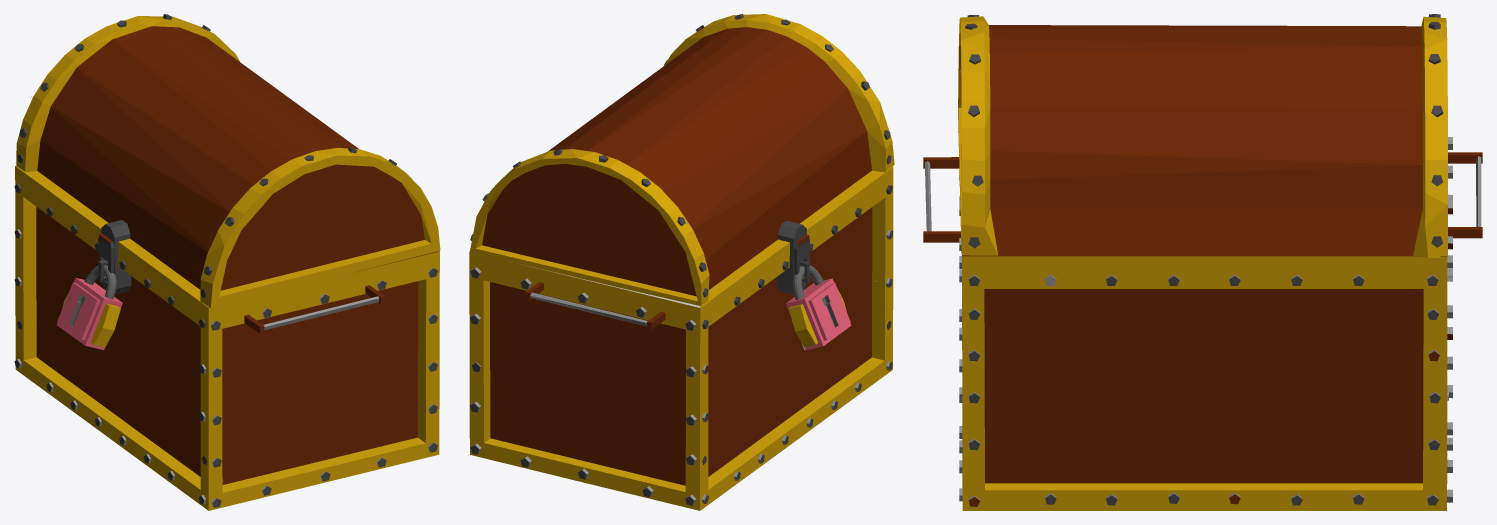
File: PinkChestAndLock.fbx
3 views of the same model, side by side, from view 1: azimuth 30°, elevation 25°; view 2: azimuth 150°, elevation 25°; view 3: azimuth 270°, elevation 25° (orthographic). The views are drawn at different scales.
Parts seen in each view (by area): view 1: Cube.001, Cube; view 2: Cube.001, Cube; view 3: Cube.001.
Boxes of the visible parts, <box> form: Cube.001: <box>14,14,440,510</box>; Cube: <box>56,265,122,350</box>; Cube.001: <box>469,14,894,510</box>; Cube: <box>785,265,851,350</box>; Cube.001: <box>923,14,1482,510</box>.
Bounding box in the file's own units: 239 × 270 × 334.
